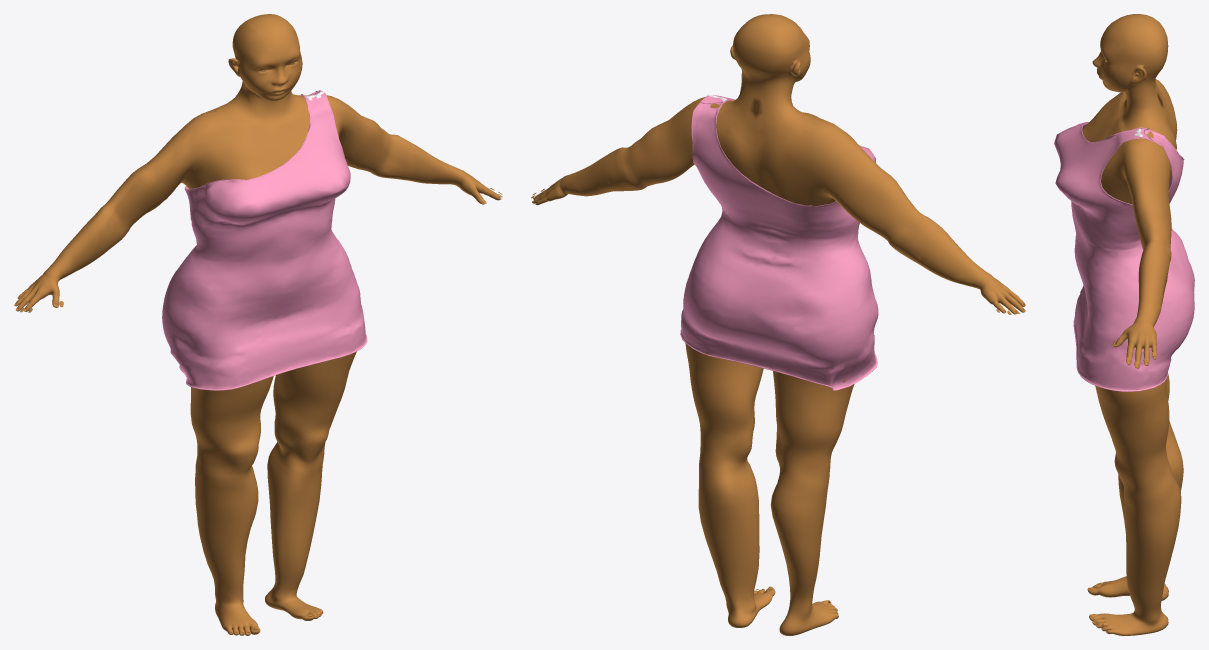
Rendered from dress1.glb.
The picture shows the model from 3 angles, left to right: view 1: azimuth 30°, elevation 25°; view 2: azimuth 150°, elevation 25°; view 3: azimuth 270°, elevation 25°; orthographic projection.
Visible parts, largest first — view 1: Body, WhiteDress; view 2: Body, WhiteDress; view 3: Body, WhiteDress.
Boxes of the visible parts, x1,y1,x2,y2 form: Body: [14, 14, 501, 635]; WhiteDress: [162, 90, 367, 390]; Body: [532, 14, 1025, 635]; WhiteDress: [680, 94, 878, 390]; Body: [1082, 14, 1183, 635]; WhiteDress: [1054, 122, 1194, 391].
Size of the model in its own units: 1.59 by 1.88 by 0.3984.
